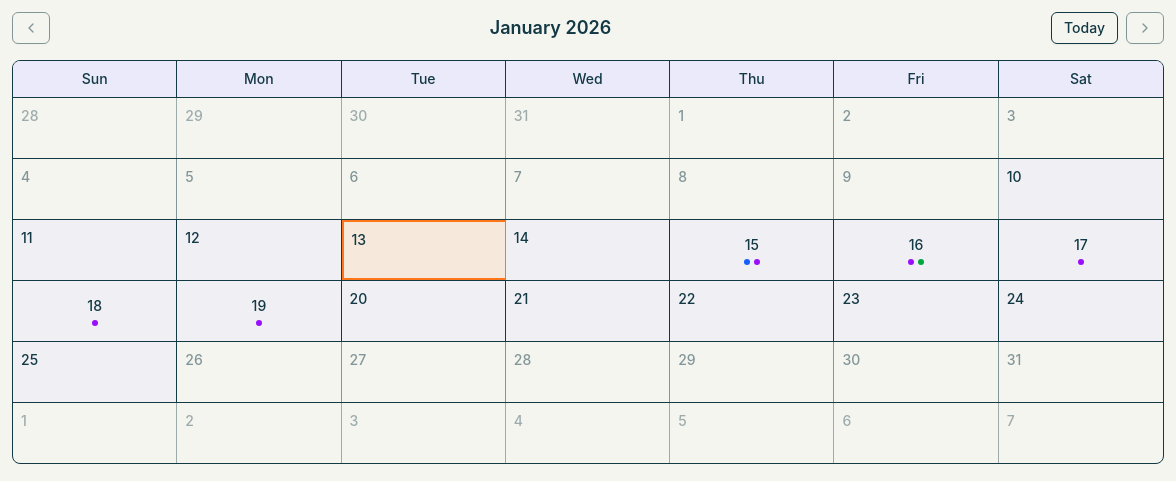
it: MonthView › Interactions › opens dropdown menu when trip day cell is clicked (only for days with items)
Click the button "15". click: (752, 250)
box: [670, 220, 834, 280]
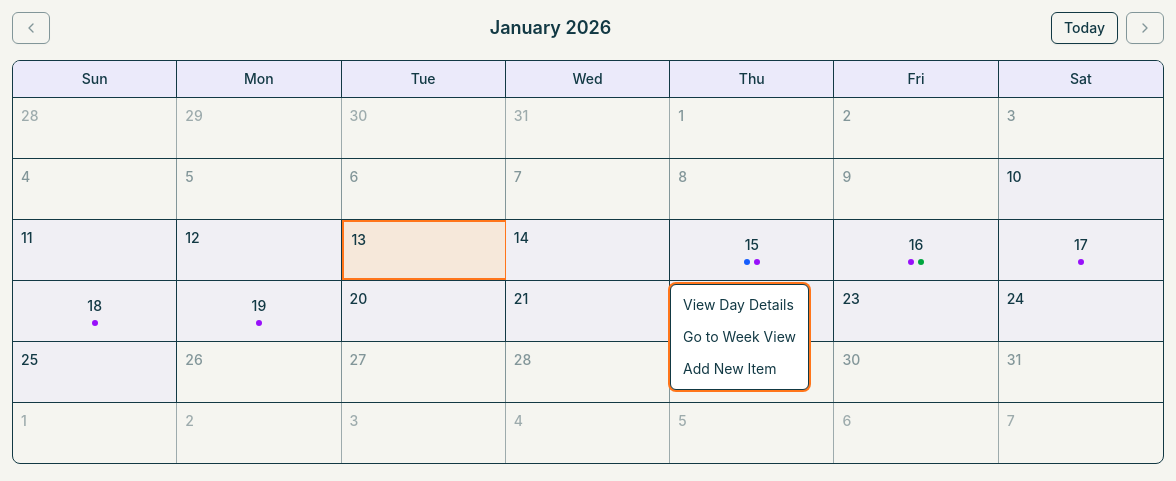
Expected: the menu item "View Day Details" is shown, [683, 296, 794, 313]
Expected: the menu item "Go to Week View" is shown, [683, 328, 796, 345]
Expected: the menu item "Add New Item" is shown, [683, 360, 776, 377]
